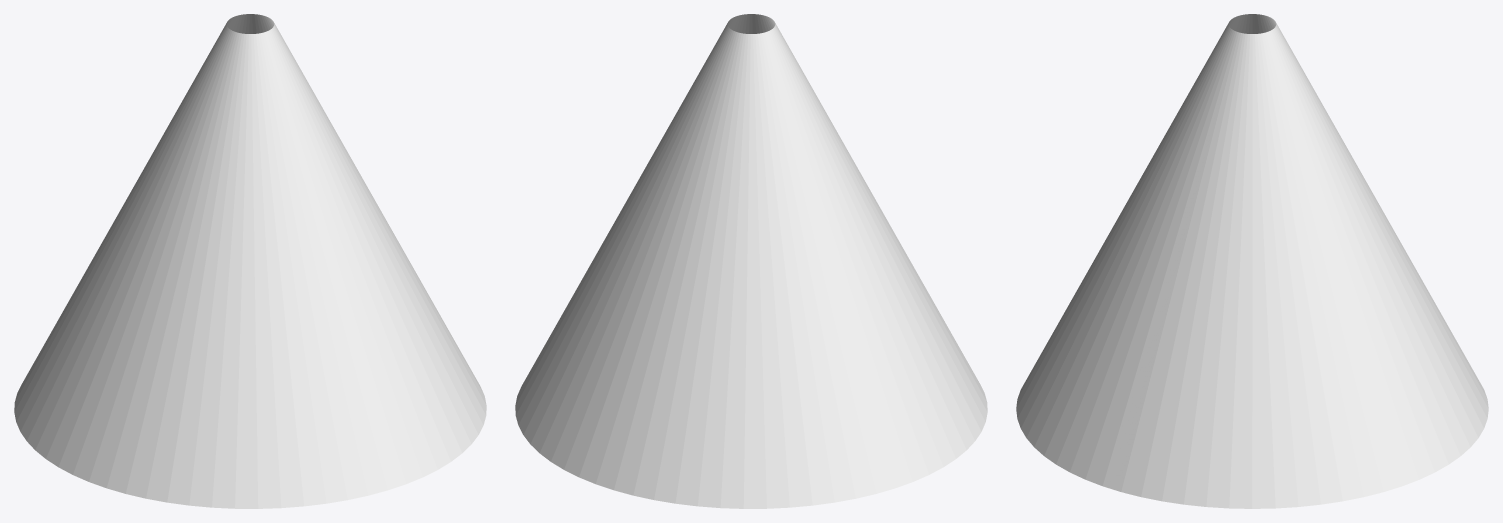
The model's file is CuttedCone.fbx.
The picture shows the model from 3 angles, left to right: view 1: azimuth 30°, elevation 25°; view 2: azimuth 150°, elevation 25°; view 3: azimuth 270°, elevation 25°; orthographic projection.
Parts seen in each view (by area): view 1: Cone; view 2: Cone; view 3: Cone.
Boxes of the visible parts, left/top/right/bottom form: Cone: left=14, top=14, right=486, bottom=508; Cone: left=515, top=14, right=987, bottom=508; Cone: left=1016, top=14, right=1488, bottom=508.
Size of the model in its own units: 200 by 180 by 200.
1 material, 1 textured.
